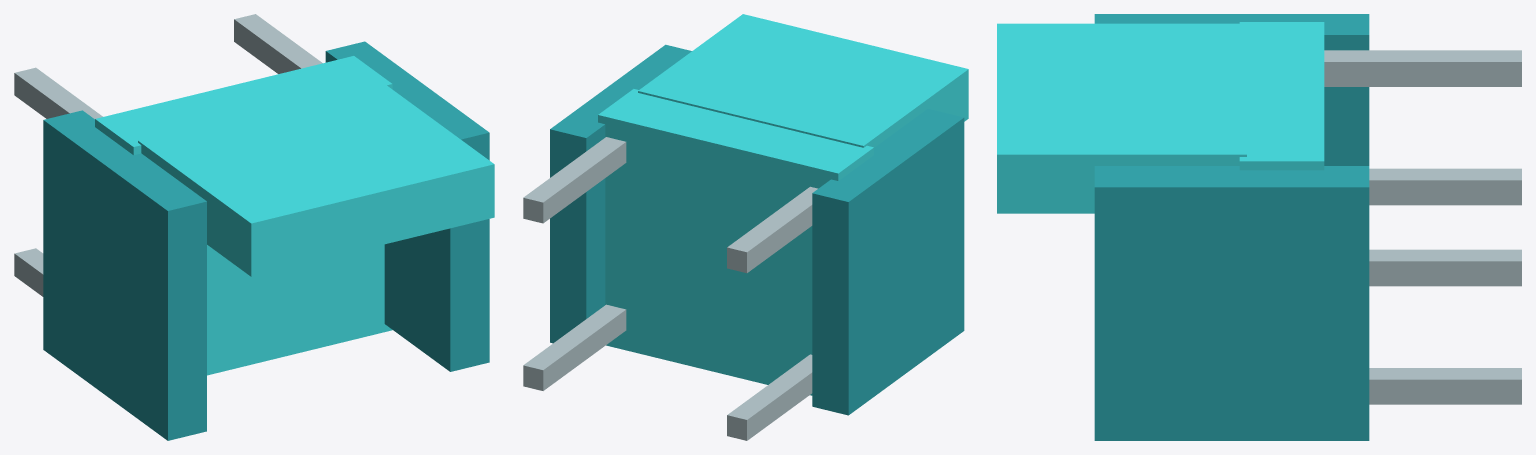
File: dining-chair.glb
The picture shows the model from 3 angles, left to right: view 1: azimuth 30°, elevation 25°; view 2: azimuth 150°, elevation 25°; view 3: azimuth 270°, elevation 25°; orthographic projection. The views are drawn at different scales.
Parts seen in each view (by area): view 1: world; view 2: world; view 3: world.
Boxes of the visible parts, x1=… form: world: x1=14, y1=14, x2=494, y2=440; world: x1=523, y1=14, x2=968, y2=440; world: x1=997, y1=14, x2=1521, y2=440.
Bounding box in the file's own units: 0.82 × 0.605 × 1.05.
